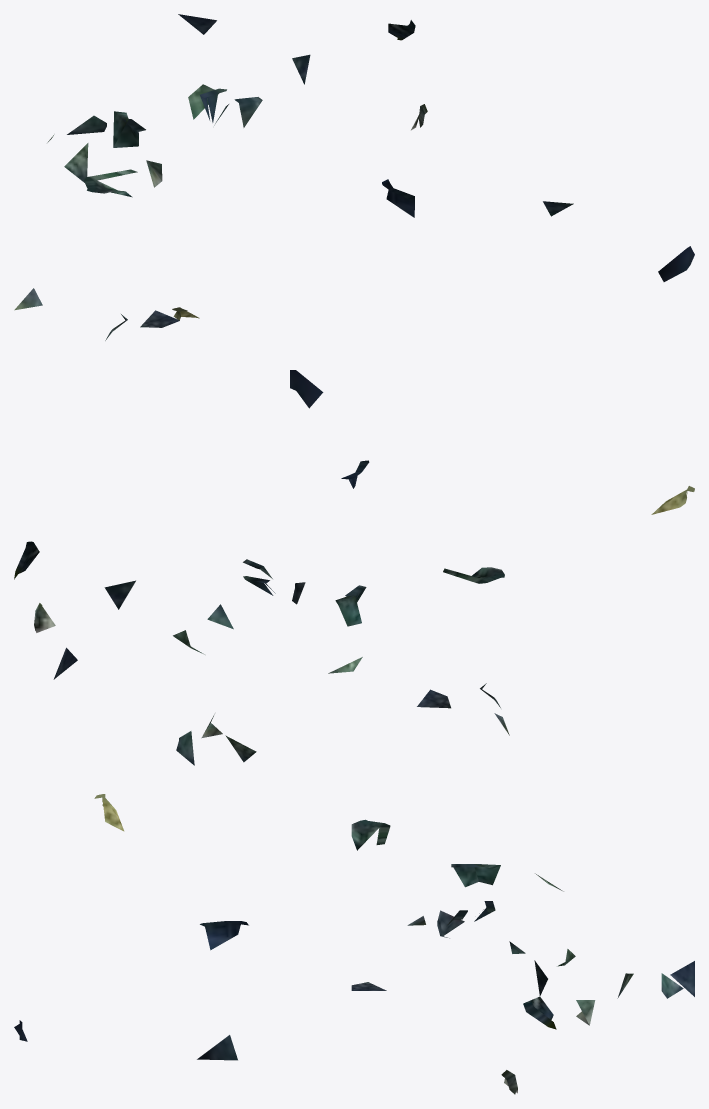
3 renders of one model, top to bottom at view 1: azimuth 30°, elevation 25°; view 2: azimuth 150°, elevation 25°; view 3: azimuth 270°, elevation 25°, orthographic. The views are drawn at different scales.
Visible parts, largest first — view 1: 30436272704370415701_1; view 2: 30436272704370415701_1; view 3: 30436272704370415701_1.
Part boxes in pixels (x1,y1,x2,y2): 30436272704370415701_1: (14,14,694,340); 30436272704370415701_1: (14,370,694,765); 30436272704370415701_1: (14,794,694,1094).
Size of the model in its own units: 27.78 by 8.63 by 37.94.
Materials: 1 (1 with a texture image).
